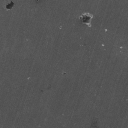corrosion: (78, 12, 94, 28), (3, 1, 16, 11), (100, 43, 106, 47), (103, 28, 109, 32), (119, 46, 124, 50)
